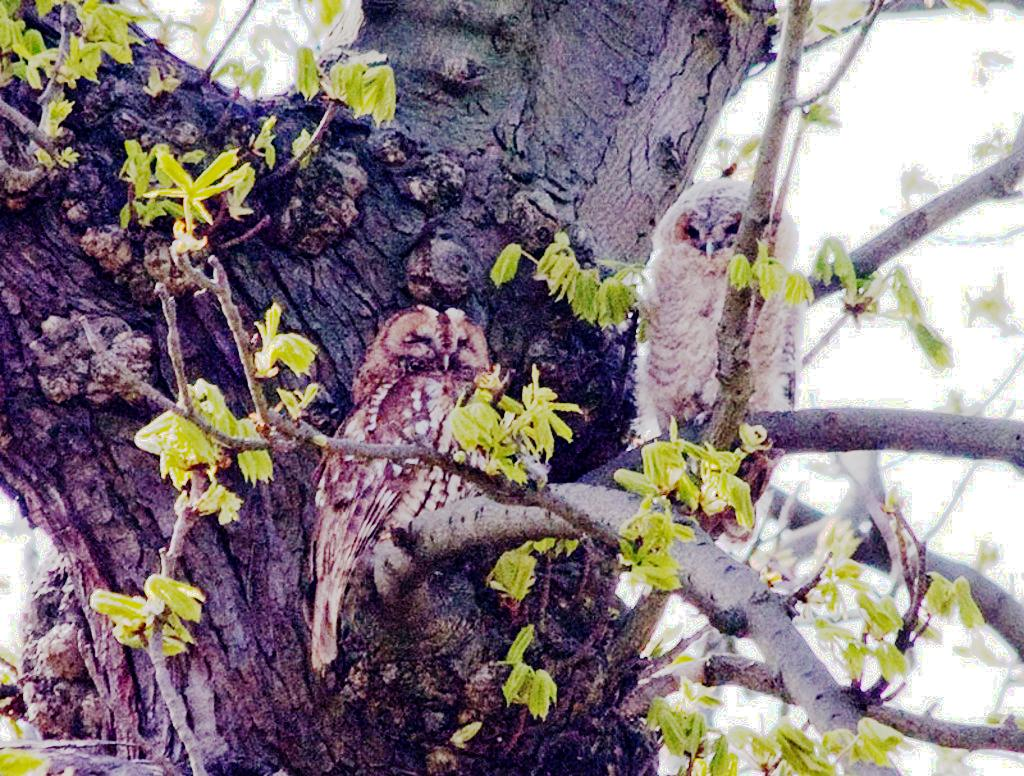Owl: (308, 303, 492, 674), (640, 179, 795, 548)
